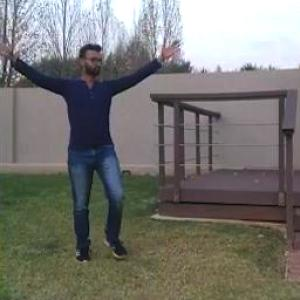takeoff: (3, 28, 192, 276)
